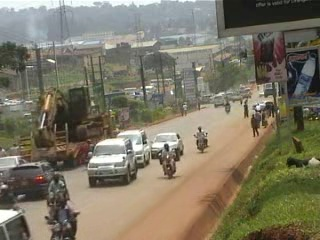Car: (84, 135, 139, 188), (9, 158, 61, 199), (112, 126, 150, 170), (149, 131, 187, 161), (0, 152, 29, 182)
Motorcycle: (44, 194, 81, 240), (44, 170, 71, 207), (157, 141, 179, 180), (0, 180, 26, 213), (192, 122, 211, 154), (76, 136, 96, 165), (222, 98, 231, 116)
